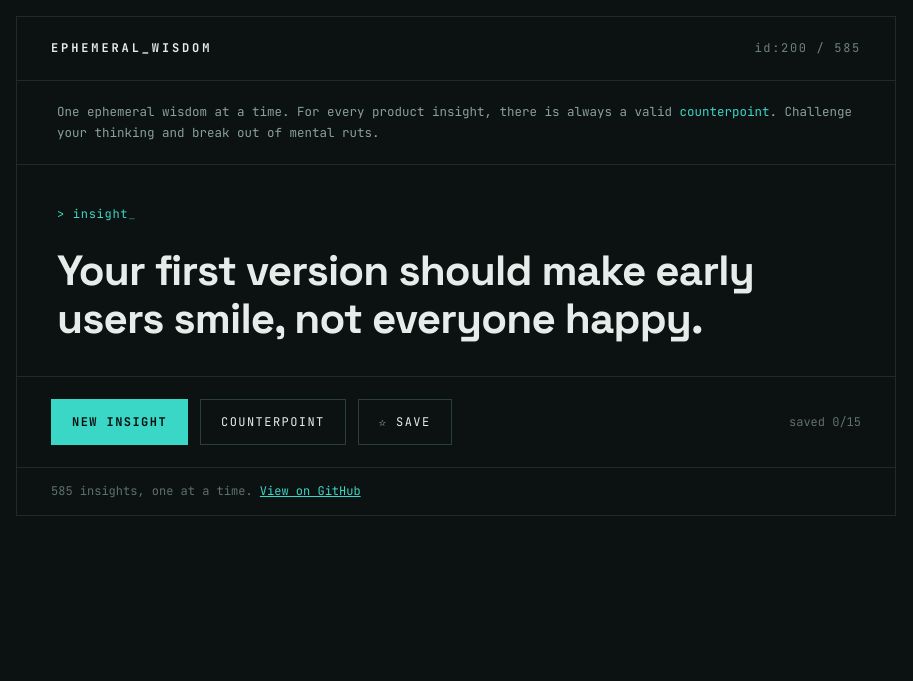
Test: App › reveals and hides the counterpoint when the toggle button is clicked
What coordinates should you click on to do the following:
click the button "Counterpoint"
I would click on:
 (273, 422)
Its box is 200,399 -> 346,445.
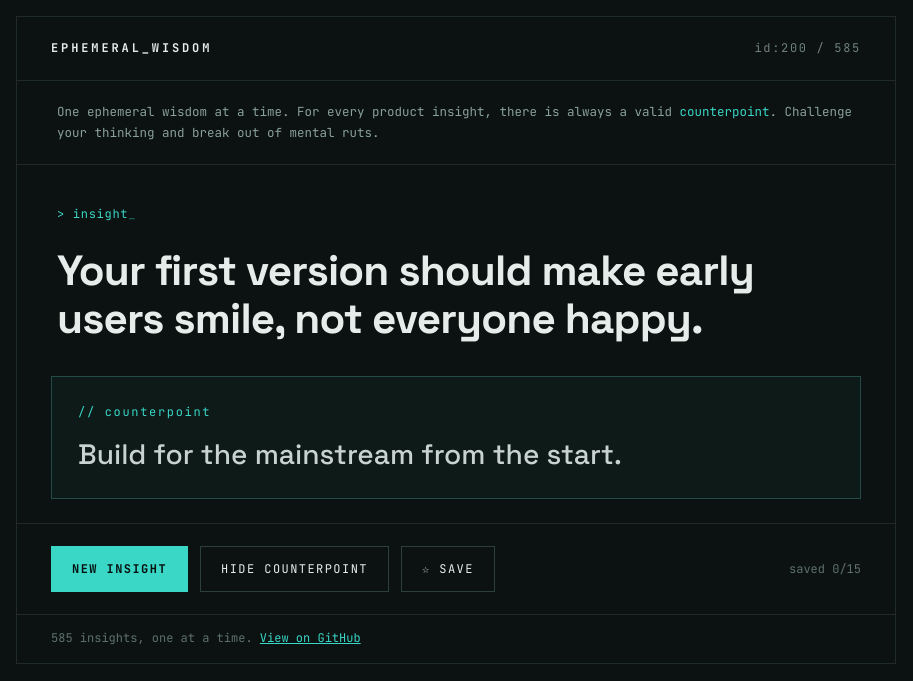
Expected: the element with id "counterpoint-text" does not show ""
Now the text "Build for the mainstream from the start." is shown, box 78,436 -> 622,472
Now the button "Hide Counterpoint" is shown
What coordinates should you click on to do the following:
click the button "Hide Counterpoint"
I would click on:
 (294, 569)
Its box is 200,546 -> 389,592.
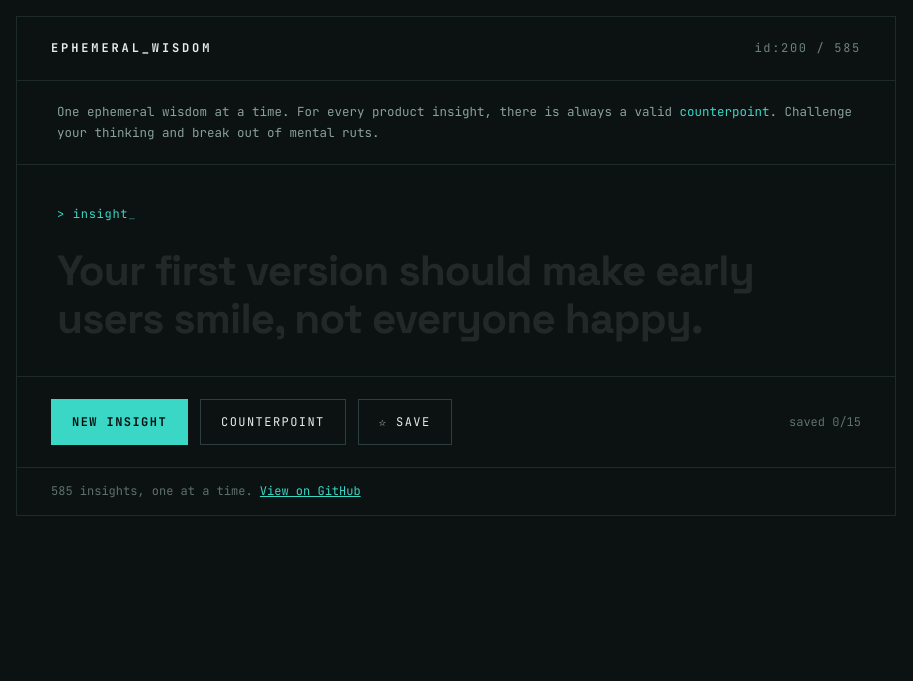
Now the text with id "counterpoint-text" is gone
